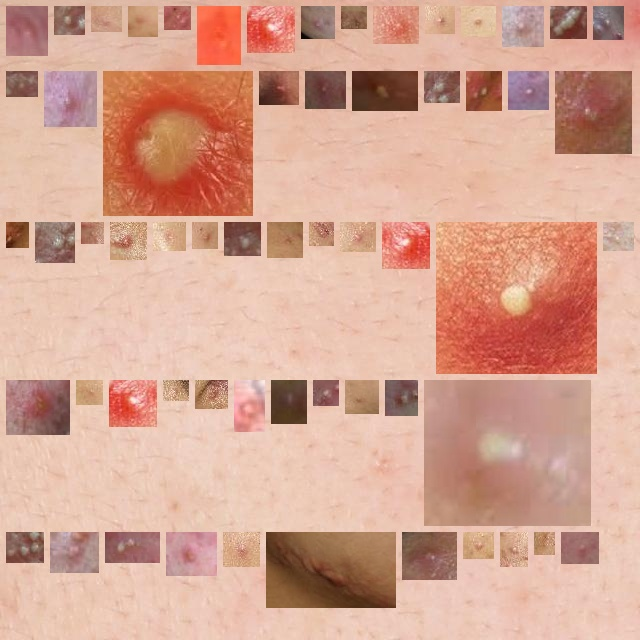pustule: (444, 230, 589, 366), (432, 388, 583, 518), (111, 79, 245, 208), (274, 540, 388, 600), (563, 79, 624, 146), (14, 388, 62, 427), (52, 79, 89, 119), (410, 540, 449, 572), (205, 14, 233, 57), (360, 79, 410, 103), (255, 14, 287, 45), (390, 230, 422, 261), (117, 388, 149, 419), (174, 540, 209, 568), (14, 14, 40, 48), (58, 540, 91, 565), (381, 14, 411, 36), (510, 14, 536, 39), (43, 230, 67, 255), (113, 540, 152, 555), (516, 79, 541, 102), (279, 388, 299, 416), (313, 79, 338, 101), (242, 388, 257, 424), (474, 79, 494, 103), (118, 230, 139, 252), (267, 79, 291, 97), (275, 230, 295, 250), (231, 540, 252, 559), (232, 230, 253, 248), (558, 14, 579, 31), (569, 540, 591, 556), (393, 388, 410, 408), (14, 540, 36, 555), (353, 388, 371, 406), (432, 79, 452, 95), (309, 14, 327, 31), (469, 14, 488, 29), (348, 230, 368, 244), (601, 14, 616, 32), (508, 540, 520, 559), (161, 230, 178, 243), (203, 388, 220, 401), (99, 14, 114, 28), (136, 14, 150, 29), (62, 14, 77, 27), (611, 230, 626, 243), (433, 14, 447, 26), (471, 540, 486, 551), (14, 79, 30, 89), (200, 230, 210, 241), (321, 388, 331, 398), (84, 388, 95, 397), (172, 14, 183, 22), (317, 230, 326, 238), (349, 14, 359, 21), (14, 230, 21, 240), (171, 388, 181, 393), (89, 230, 96, 236), (542, 540, 547, 547)
